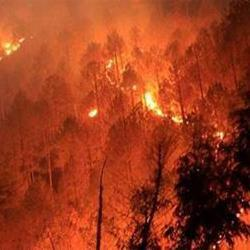fire: (143, 89, 158, 111), (168, 113, 183, 123), (88, 105, 98, 118)
